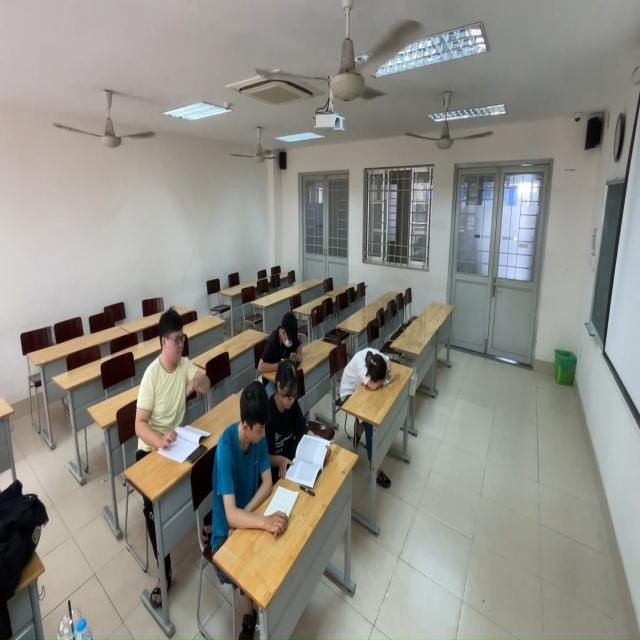sleep: (340, 349, 397, 404)
study: (211, 383, 286, 538), (134, 312, 207, 454), (262, 361, 325, 478), (260, 312, 305, 373)
